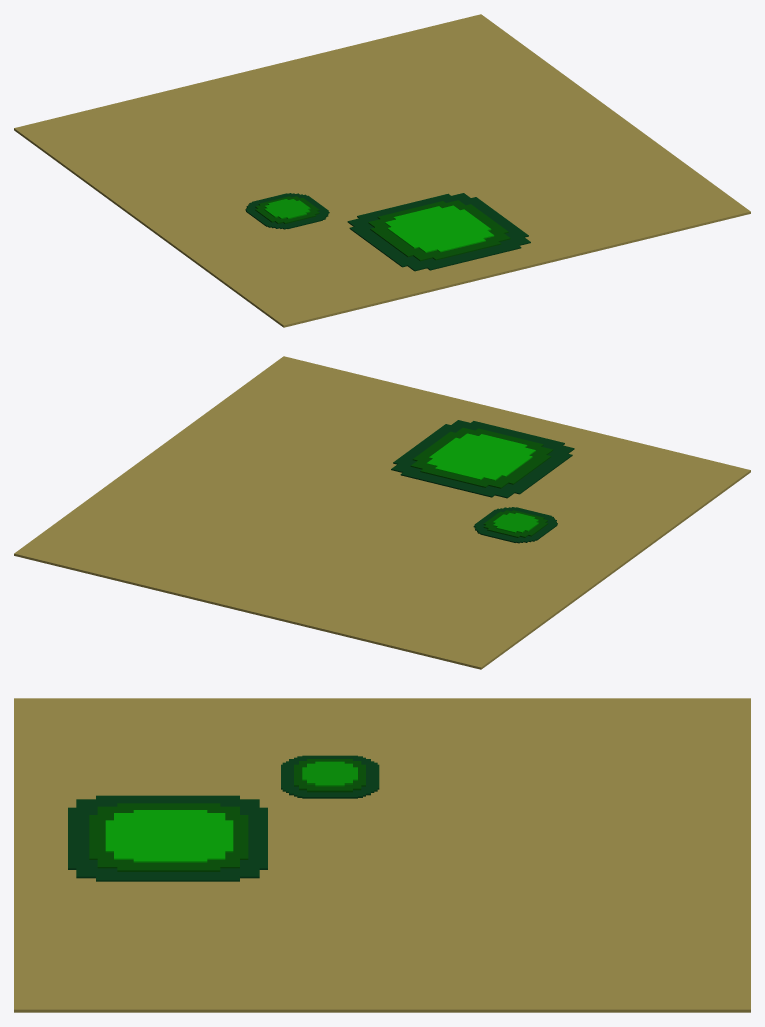
Rendered from Terrain_Test.fbx.
3 renders of one model, top to bottom at view 1: azimuth 30°, elevation 25°; view 2: azimuth 150°, elevation 25°; view 3: azimuth 270°, elevation 25°, orthographic. The views are drawn at different scales.
Visible parts, largest first — view 1: Matrix_1; view 2: Matrix_1; view 3: Matrix_1.
Boxes of the visible parts, <box> form: Matrix_1: <box>14,14,750,327</box>; Matrix_1: <box>14,356,750,669</box>; Matrix_1: <box>14,698,750,1012</box>.
Bounding box in the file's own units: 450 × 5 × 450.
Materials: 1 (1 with a texture image).
